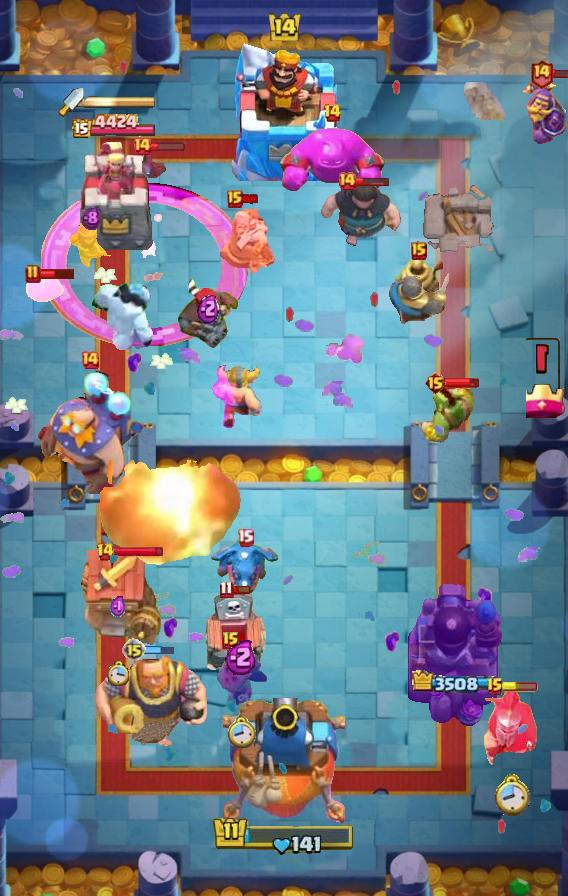bar: (73, 140, 155, 256)
barbarian-barrel: (140, 147, 172, 183)
cannon: (68, 221, 114, 269)
clock: (212, 815, 356, 857)
clone: (277, 126, 387, 200)
electro-spirit: (225, 637, 258, 675), (197, 293, 219, 323), (82, 205, 103, 231), (110, 595, 126, 619)
elixir: (492, 772, 530, 816), (227, 717, 256, 750), (106, 660, 129, 686)
elixir-collector: (217, 203, 277, 273)
elixir-golem-mid: (199, 593, 269, 679)
emote: (113, 545, 164, 558), (40, 268, 77, 281), (444, 377, 480, 389), (355, 175, 390, 187), (150, 140, 186, 151), (502, 682, 538, 692), (143, 644, 175, 655), (241, 193, 260, 205), (231, 584, 251, 595), (552, 68, 568, 79)
firecracker: (387, 273, 449, 325)
firecracker-evolution: (524, 79, 568, 147)
fisherman: (464, 82, 506, 128)
flying-machine: (420, 383, 476, 443)
giant-skeleton: (93, 649, 209, 749)
goblin-barrel: (213, 638, 269, 710)
goblin-drill: (395, 256, 443, 304)
goblin-giant: (212, 363, 264, 429)
graveyard: (210, 535, 280, 597)
king-tower: (223, 698, 345, 826), (231, 43, 337, 181)
king-tower-bar: (84, 95, 156, 109)
knight-evolution: (40, 182, 248, 346)
little-prince: (37, 371, 143, 497)
miner: (26, 275, 66, 303)
phoenix-small: (175, 276, 241, 350)
rage: (90, 282, 154, 350)
royal-hog: (318, 179, 404, 255)
selected: (71, 113, 157, 141), (410, 670, 496, 694)
sparky: (75, 549, 161, 647)
text: (529, 58, 554, 89), (122, 638, 146, 662), (425, 371, 448, 395), (322, 103, 342, 123), (132, 136, 152, 156), (337, 171, 357, 191), (80, 350, 100, 370), (97, 542, 116, 562), (222, 631, 240, 651), (486, 677, 504, 697), (238, 528, 255, 547), (25, 264, 41, 284), (227, 190, 243, 208), (411, 242, 427, 260), (218, 581, 233, 599)
tower-bar: (402, 579, 504, 731)
valkyrie: (96, 460, 252, 582)
wall-breaker-evolution: (483, 691, 539, 771)
